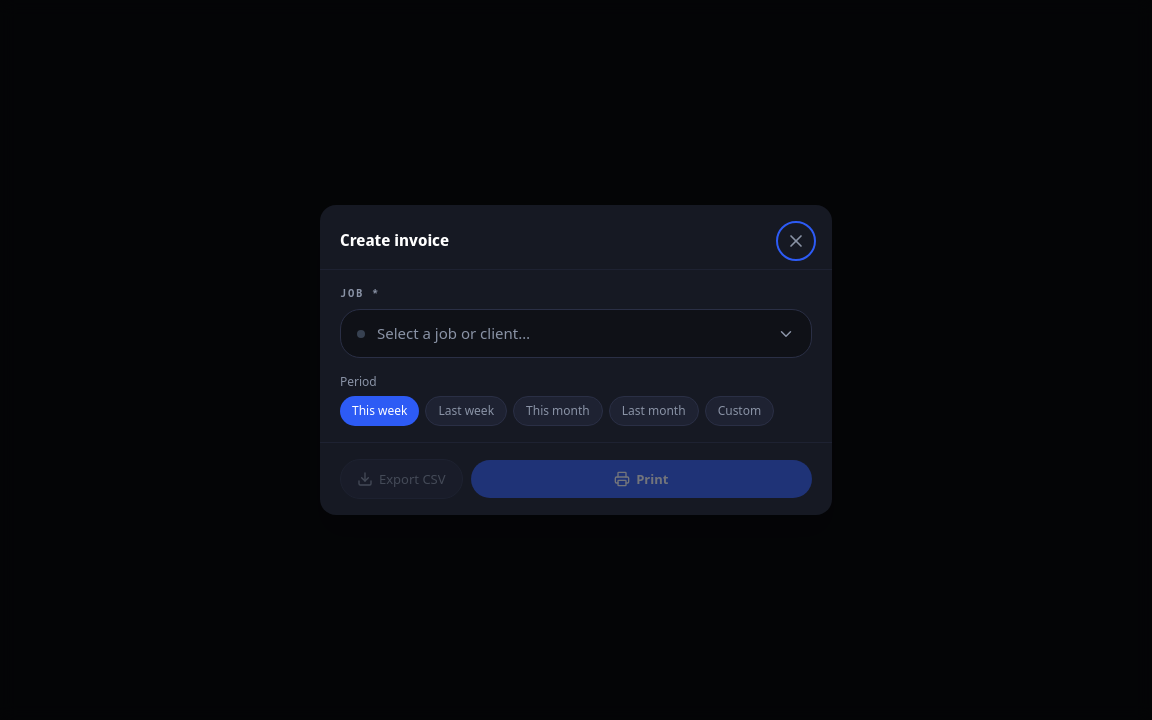
Test case: InvoiceModal — period presets › custom date pickers accept values
Click the button "Custom".
click(739, 411)  # box [705, 396, 774, 426]
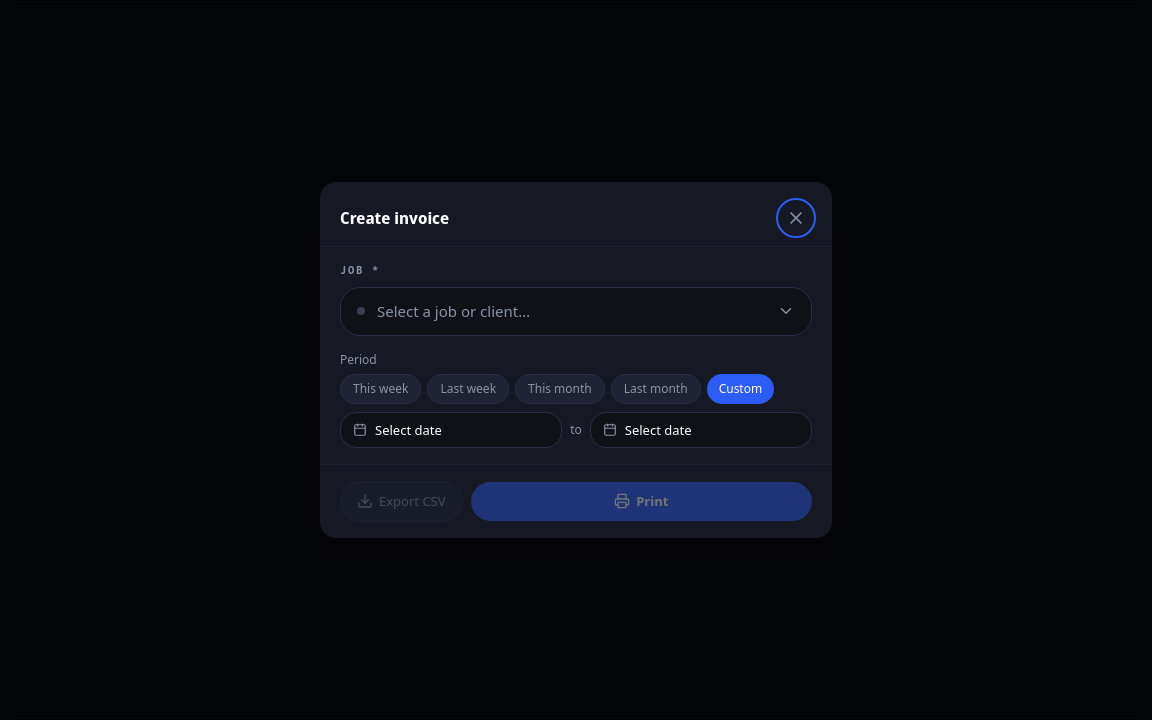
Click the button with aria-label "custom start".
click(451, 430)  # box [340, 412, 562, 448]
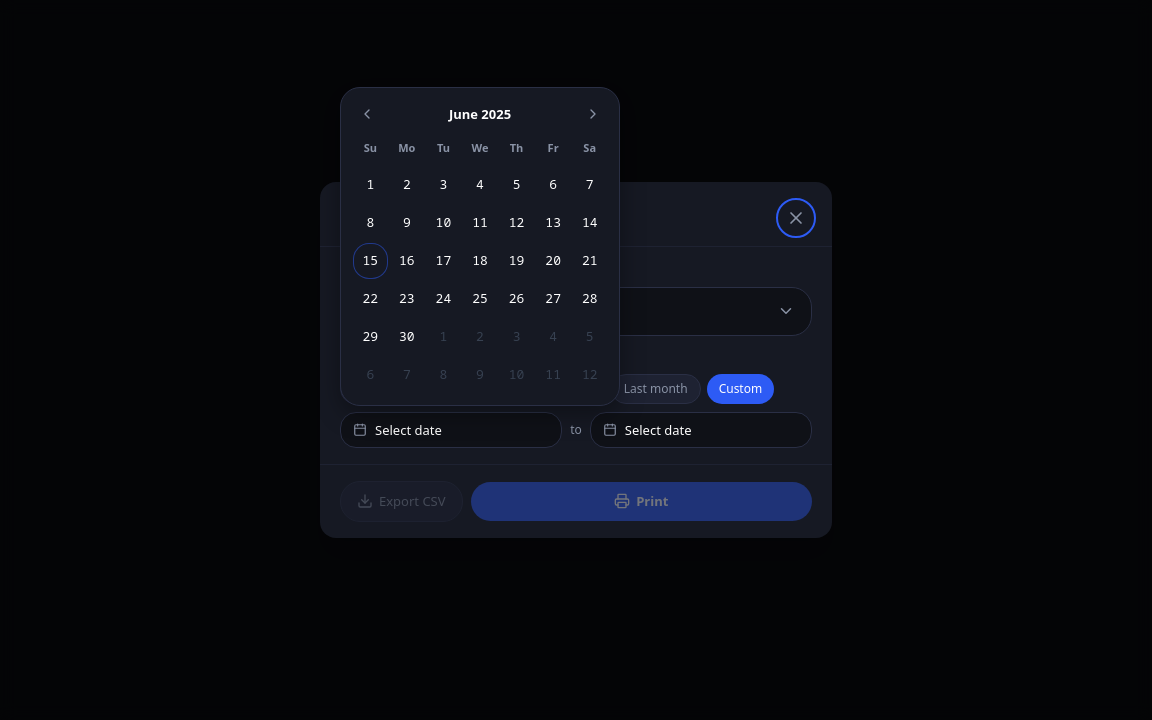
Click the button named "June 1, 2025".
click(370, 185)  # box [353, 167, 388, 203]
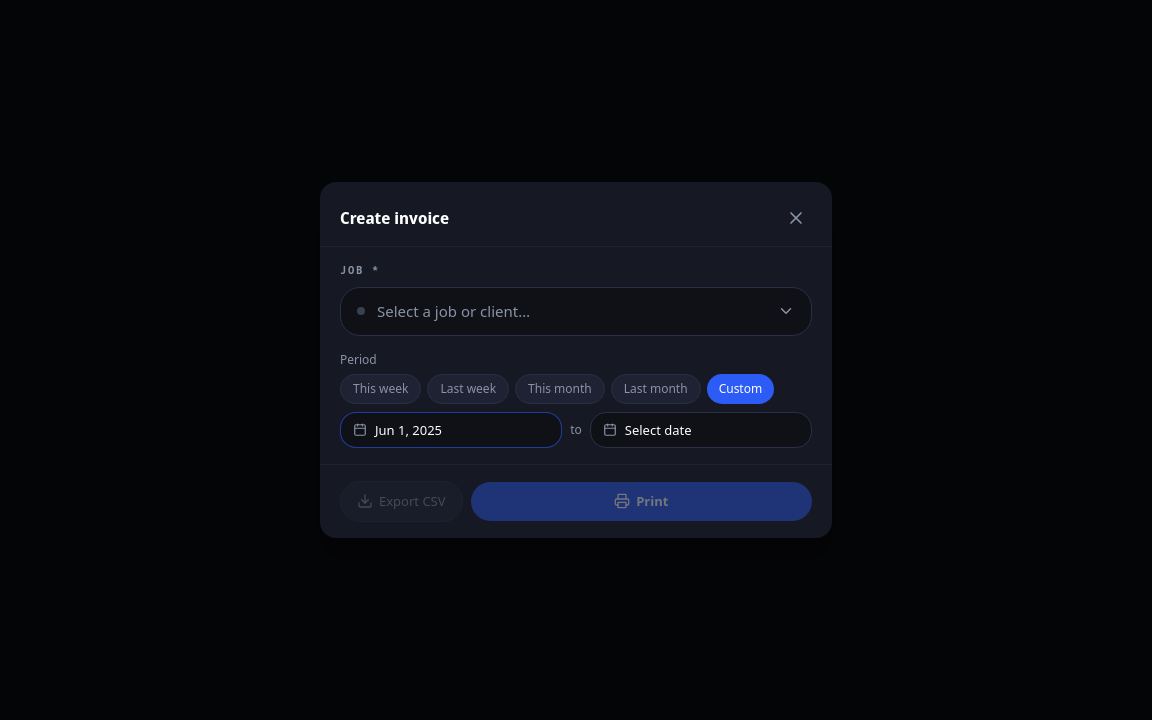
Click the button with aria-label "custom end".
click(701, 430)  # box [590, 412, 812, 448]
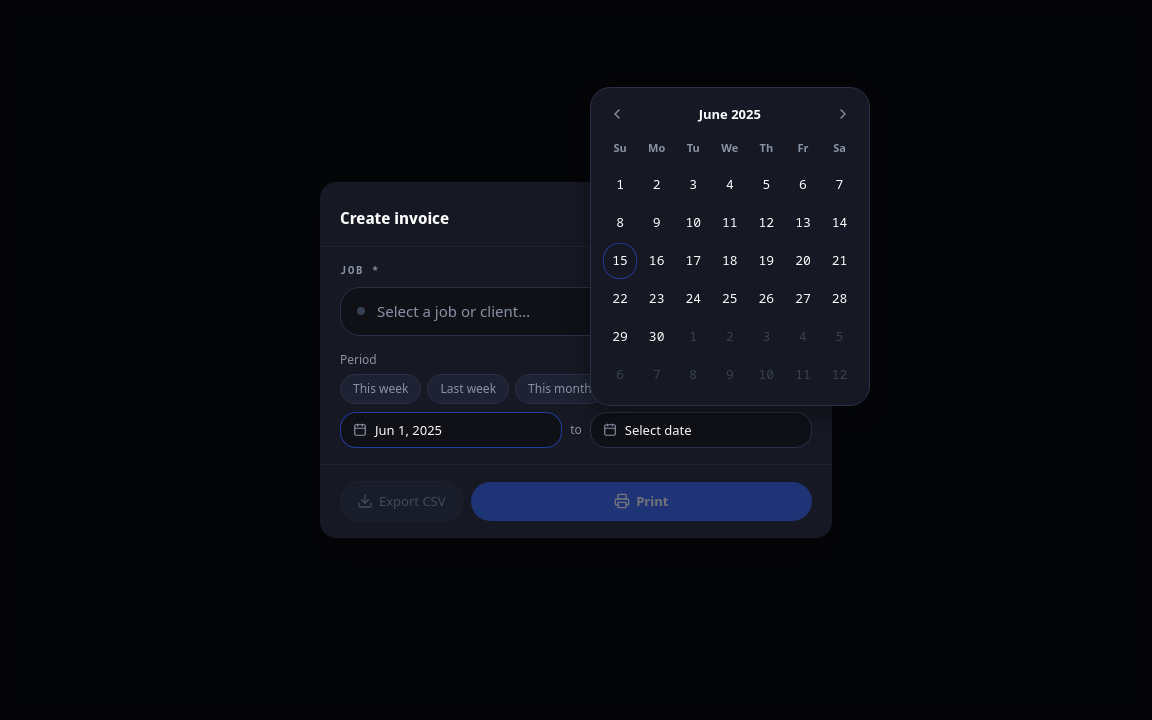
Click the button named "June 30, 2025".
click(657, 337)  # box [639, 319, 674, 355]
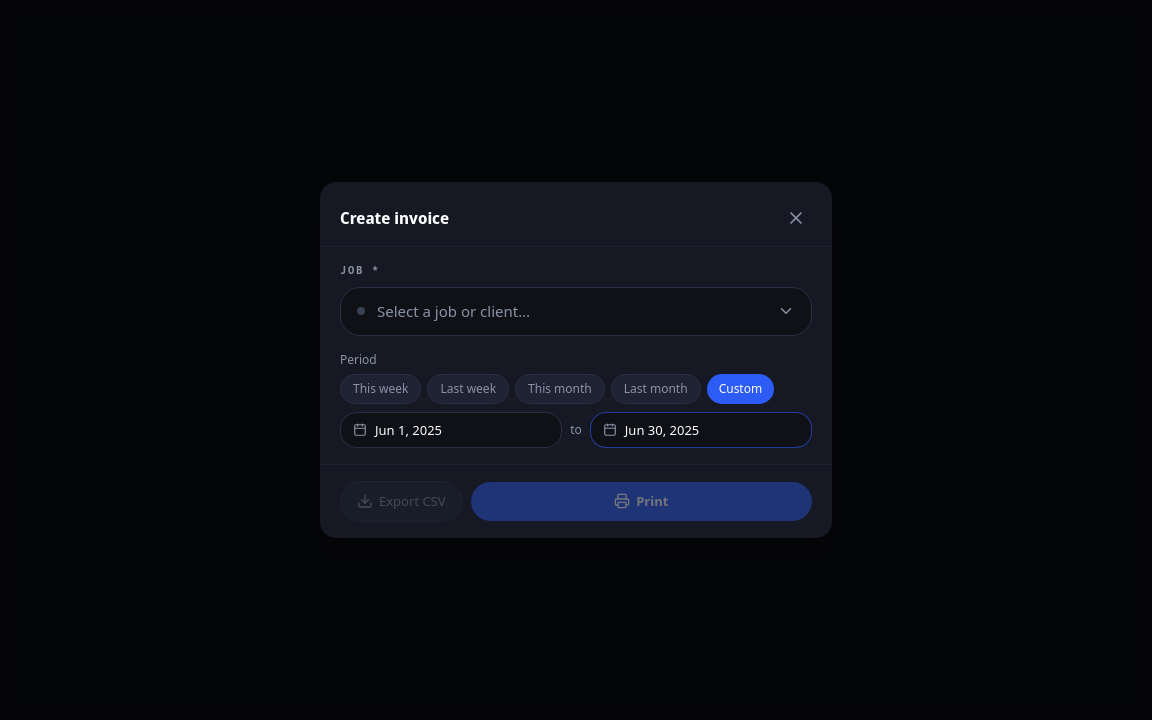
Check: the button with aria-label "custom start: jun 1, 2025" is shown, box [340, 412, 562, 448]
Check: the button with aria-label "custom end: jun 30, 2025" is shown, box [590, 412, 812, 448]
